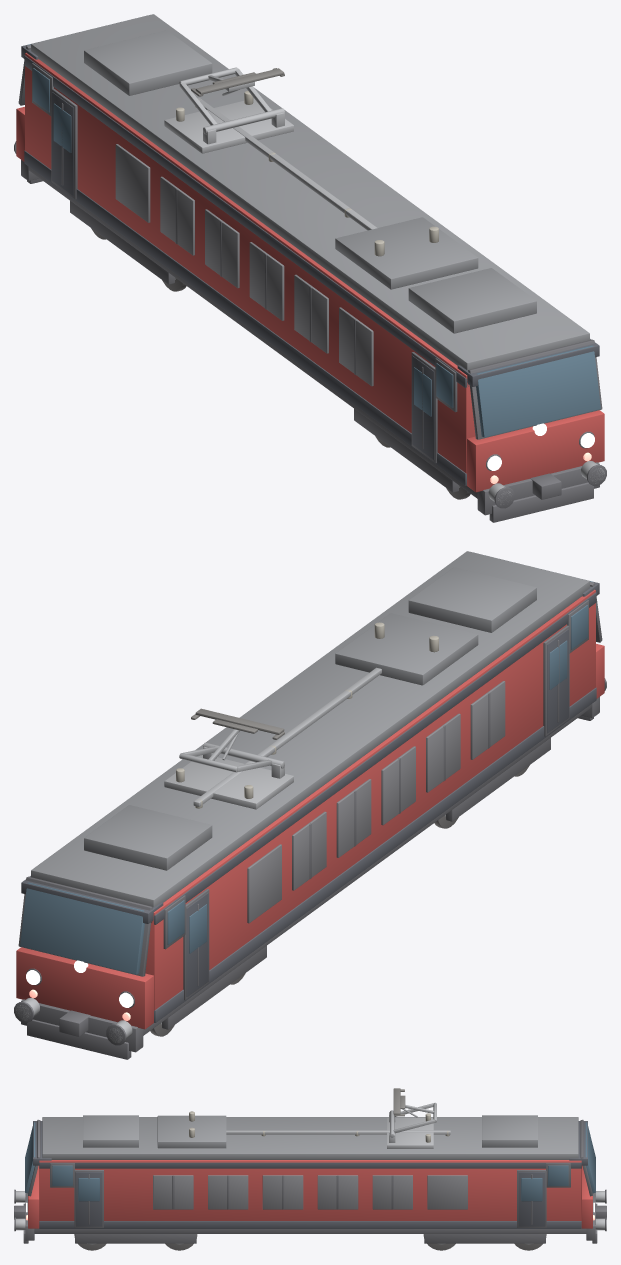
File: th17_lokomotive.glb
The picture shows the model from 3 angles, top to bottom: view 1: azimuth 30°, elevation 25°; view 2: azimuth 150°, elevation 25°; view 3: azimuth 270°, elevation 25°; orthographic projection. The views are drawn at different scales.
Parts seen in each view (by area): view 1: Cube.066, Cube.017, Cube.085, Cube.083, Cube.082, Cube.018, Cube.067, Cube.068, Cube.019, Cube.070, Cube.025, Cube.016 (+17 smaller); view 2: Cube.066, Cube.017, Cube.092, Cube.090, Cube.082, Cube.018, Cube.067, Cube.068, Cube.019, Cube.070, Cube.016, Cube.025 (+17 smaller); view 3: Cube.017, Cube.066, Cube.018, Cube.019, Cube.016, Cube.082, Cube.067, Cube.068, Cube.036, Cube.033, Cube.034, Cube.031 (+22 smaller).
Boxes of the visible parts, x1,y1,x2,y2 form: Cube.066: (31,14,589,370); Cube.017: (25,52,475,473); Cube.085: (476,345,600,437); Cube.083: (467,410,604,492); Cube.082: (335,217,478,289); Cube.018: (24,150,466,485); Cube.067: (408,268,536,333); Cube.068: (84,30,212,95); Cube.019: (24,55,469,387); Cube.070: (164,98,293,153); Cube.025: (115,144,150,222); Cube.016: (28,167,477,498); Cube.066: (31,551,589,907); Cube.017: (145,589,595,1010); Cube.092: (20,882,144,974); Cube.090: (16,947,153,1029); Cube.082: (335,613,478,685); Cube.018: (154,687,596,1022); Cube.067: (408,567,536,632); Cube.068: (84,805,212,870); Cube.019: (151,592,596,924); Cube.070: (164,755,293,809); Cube.016: (143,704,592,1035); Cube.025: (247,844,281,923); Cube.017: (39,1160,581,1220); Cube.066: (42,1117,578,1159); Cube.018: (39,1221,581,1228); Cube.019: (39,1162,581,1168); Cube.016: (34,1228,586,1233); Cube.082: (157,1115,226,1148); Cube.067: (83,1115,138,1147); Cube.068: (482,1115,537,1147); Cube.036: (427,1175,467,1209); Cube.033: (262,1175,303,1209); Cube.034: (317,1175,358,1209); Cube.031: (153,1175,193,1209).
Size of the model in its own units: 3.11 by 4.95 by 19.02.
